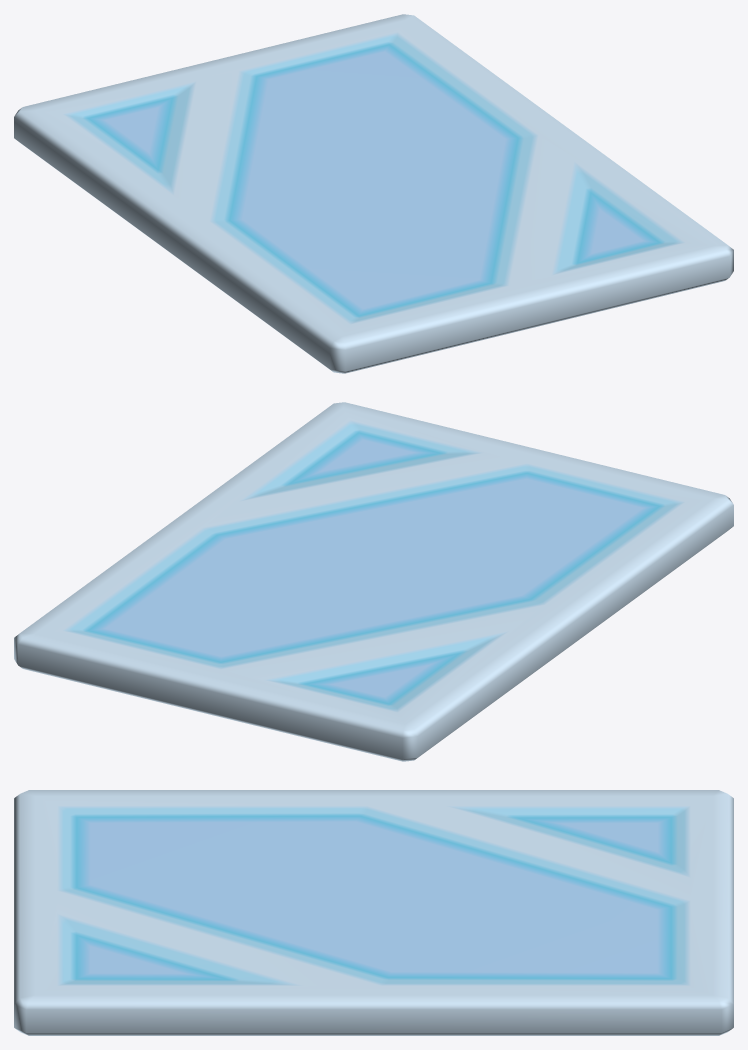
The model's file is obstacle_9_001.fbx.
3 renders of one model, top to bottom at view 1: azimuth 30°, elevation 25°; view 2: azimuth 150°, elevation 25°; view 3: azimuth 270°, elevation 25°, orthographic. The views are drawn at different scales.
Parts seen in each view (by area): view 1: obstacle_9_001; view 2: obstacle_9_001; view 3: obstacle_9_001.
Boxes of the visible parts, x1=… form: obstacle_9_001: x1=14, y1=14, x2=733, y2=373; obstacle_9_001: x1=14, y1=402, x2=733, y2=761; obstacle_9_001: x1=14, y1=790, x2=733, y2=1035.
Size of the model in its own units: 406 by 570 by 30.
